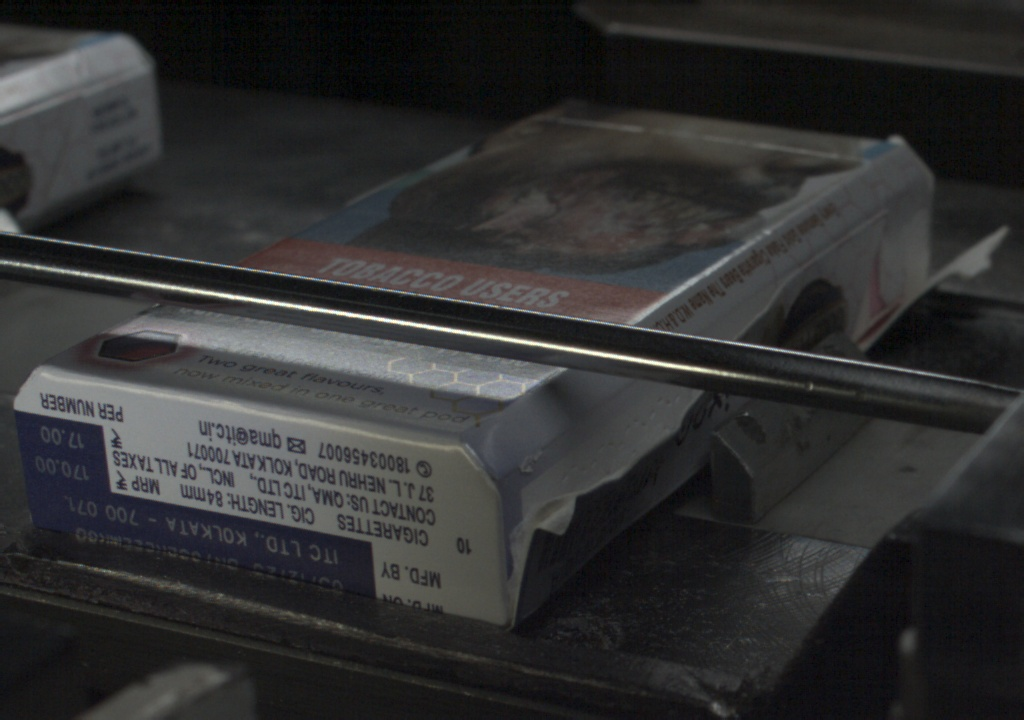g_bottom: (11, 367, 505, 627)
g_label: (22, 495, 376, 600)
ng_lmiter: (581, 390, 683, 476), (508, 473, 580, 586), (711, 278, 783, 337)
ng_miter: (864, 183, 972, 291)
price: (20, 422, 109, 492)
